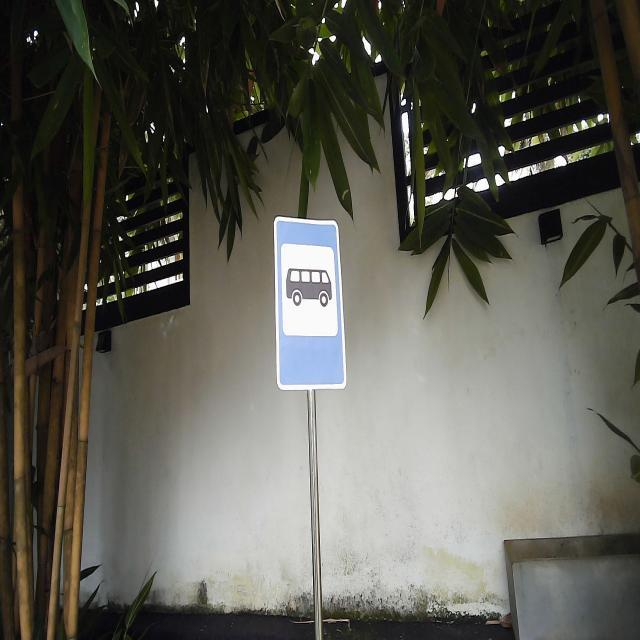bus_stop: (272, 214, 348, 392)
